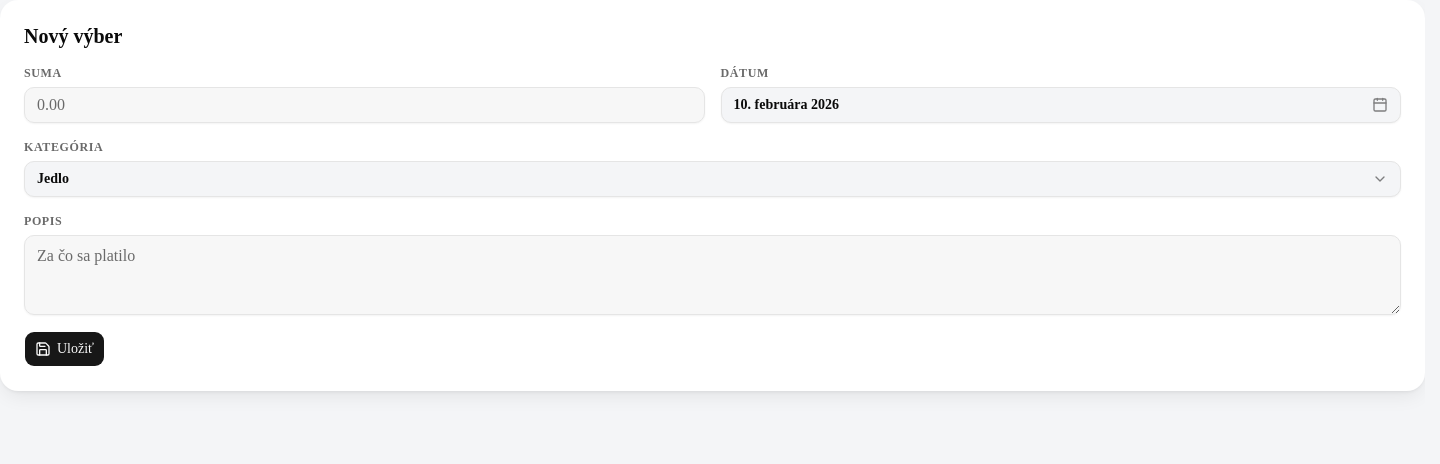
Scenario: errors › renders the localized message for invalidDate
The width and height of the screenshot is (1440, 464).
In the number field labelled "Suma": (364, 105) [24, 87, 704, 123], type "42.50"
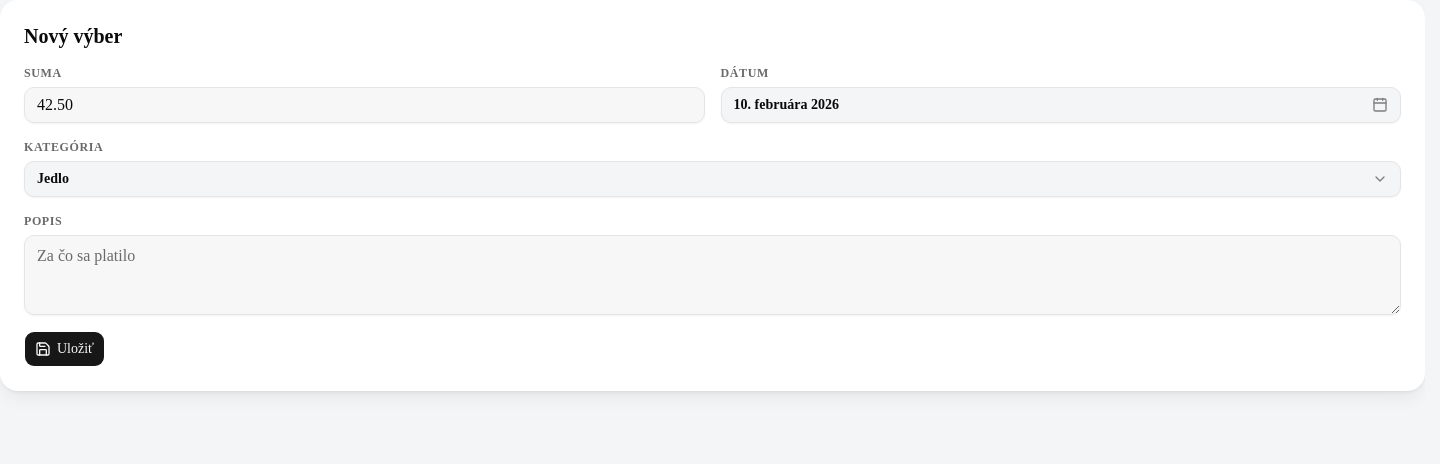
In the text box labelled "Popis": (712, 275) [24, 235, 1401, 315], type "Obedy po zápase"
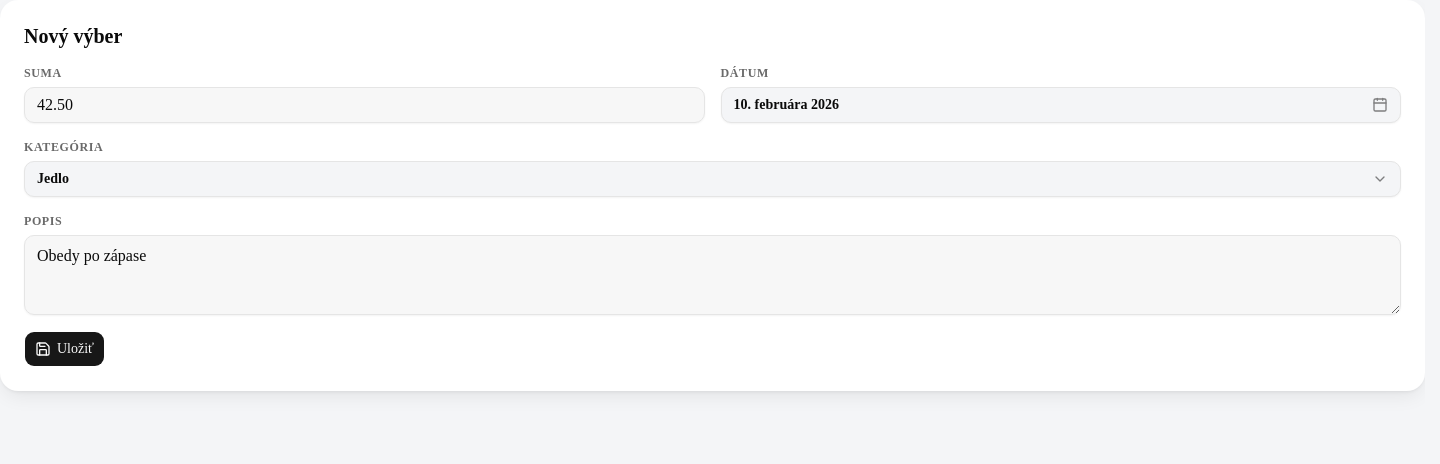
Click the button "Uložiť": (65, 349) [24, 331, 105, 367]
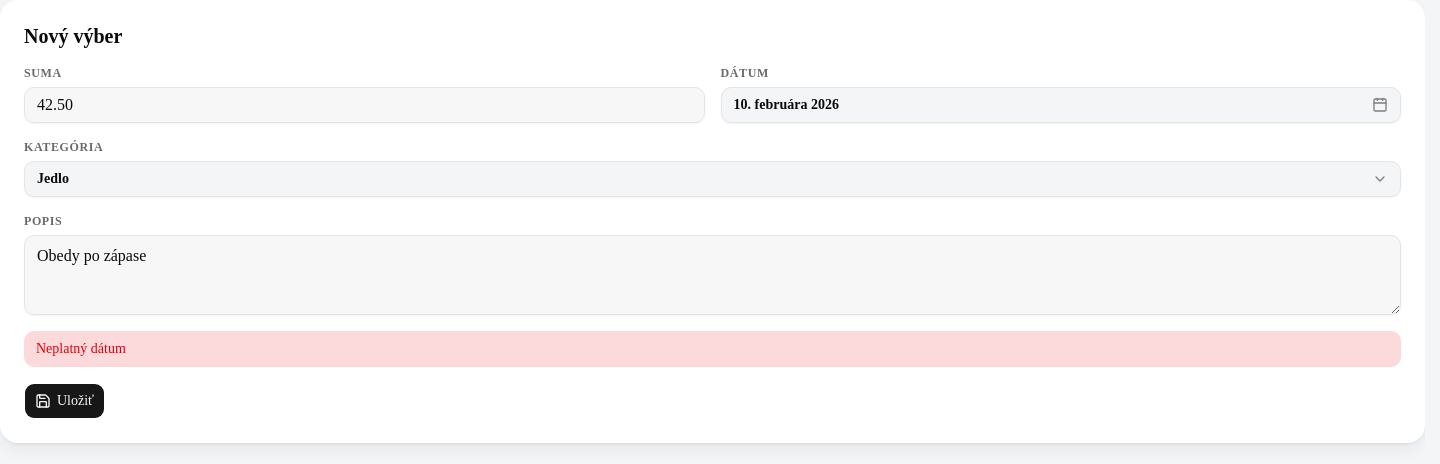
Expected: the text "Neplatný dátum" is shown, [24, 331, 1401, 367]
